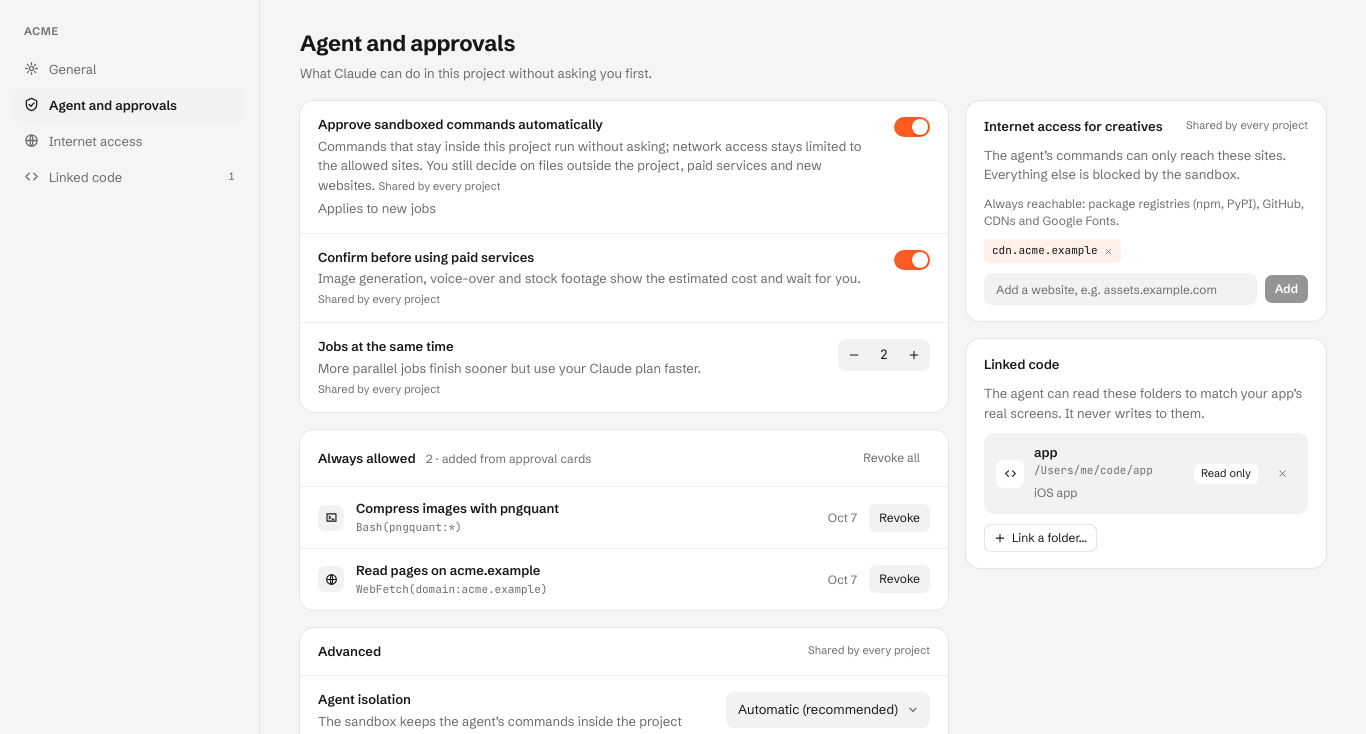
Project settings · agent, internet and code › explains a settings save failure
This screenshot has width=1366, height=734.
Click the button named "Fewer jobs".
click(854, 355)  # box [838,339,870,371]
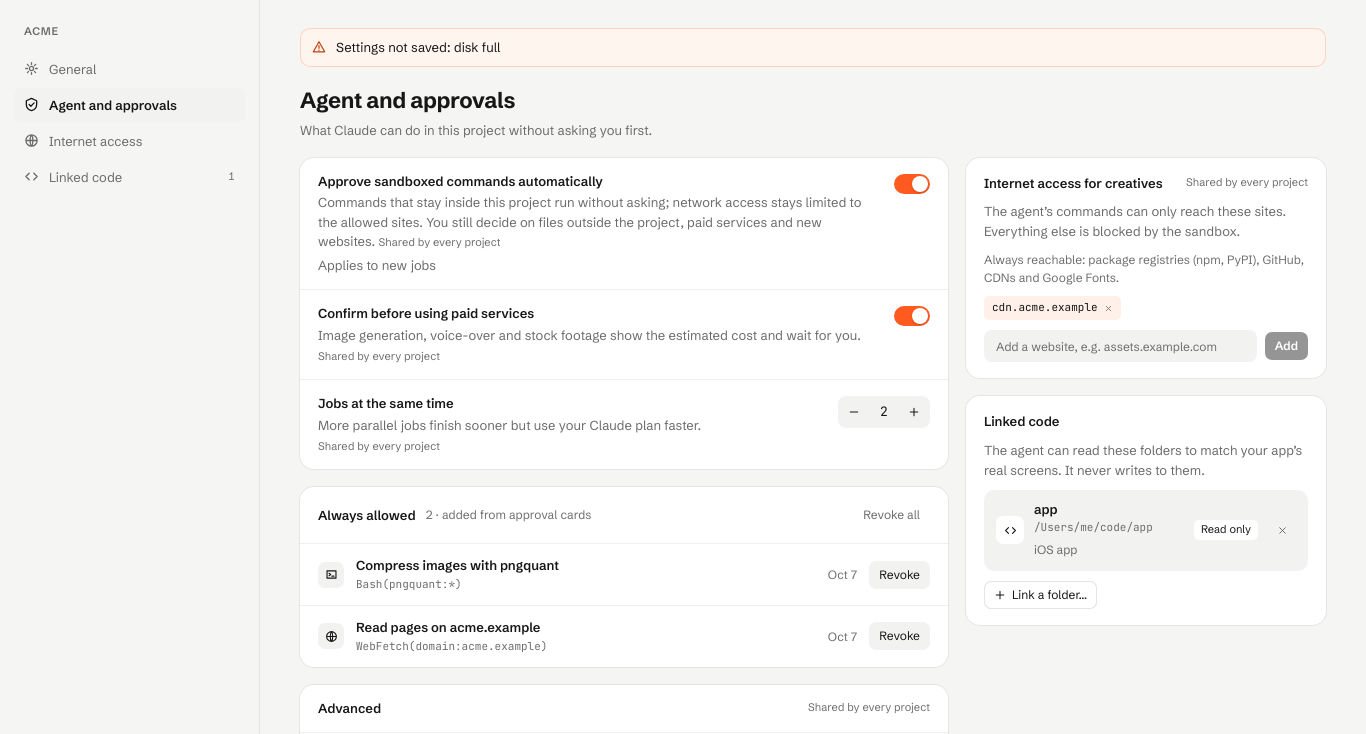
Check: the message reads "Settings not saved: disk full", box [336,39,500,55]
